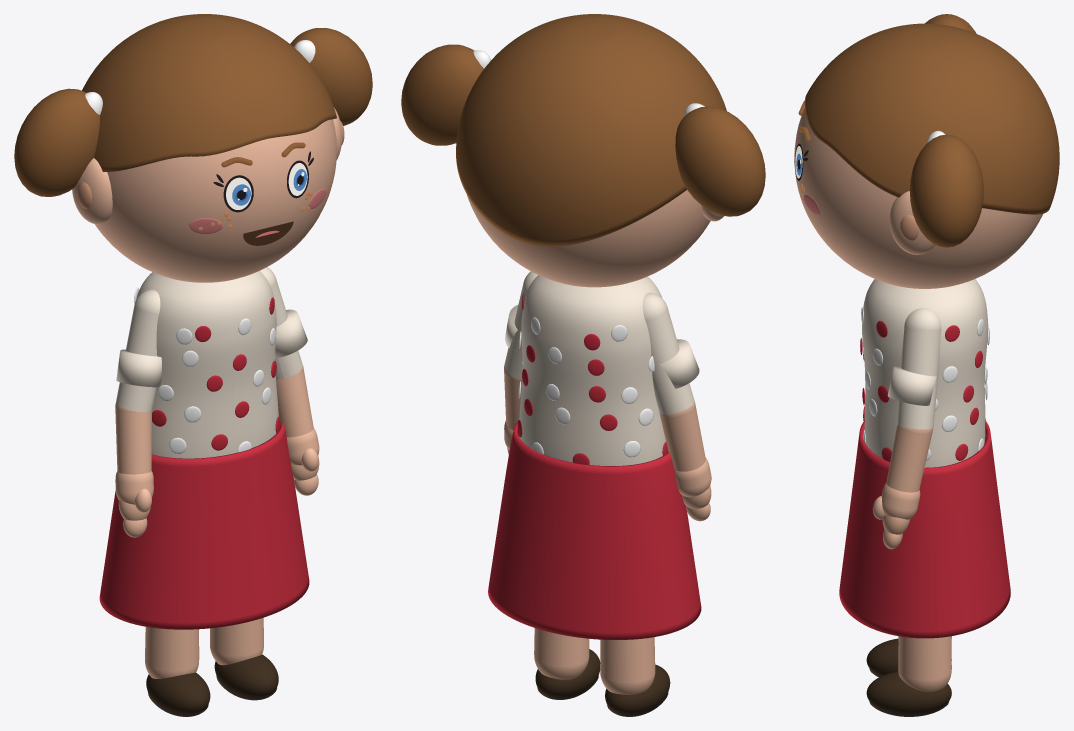
Rendered from oma_jong.glb.
3 views of the same model, side by side, from view 1: azimuth 30°, elevation 25°; view 2: azimuth 150°, elevation 25°; view 3: azimuth 270°, elevation 25° (orthographic). The views are drawn at different scales.
Visible parts, largest first — view 1: oma_jong_rok, oma_jong_haar, oma_jong_hoofd, oma_jong_romp, oma_jong_staartje_R, oma_jong_staartje_L, oma_jong, oma_jong_bovenarm_R, oma_jong_been_R, oma_jong_onderarm_R, oma_jong_schoen_R, oma_jong_schoen_L (+9 smaller); view 2: oma_jong_haar, oma_jong_rok, oma_jong_romp, oma_jong_hoofd, oma_jong_staartje_R, oma_jong_staartje_L, oma_jong, oma_jong_bovenarm_R, oma_jong_been_R, oma_jong_been_L, oma_jong_onderarm_R, oma_jong_schoen_R (+5 smaller); view 3: oma_jong_haar, oma_jong_rok, oma_jong_hoofd, oma_jong_romp, oma_jong_staartje_L, oma_jong_bovenarm_L, oma_jong_been_L, oma_jong, oma_jong_schoen_L, oma_jong_onderarm_L, oma_jong_mouwzoom_L, oma_jong_oor_L (+3 smaller).
Part boxes in pixels (x1,y1,x2,y2): oma_jong_rok: (99,422,309,629); oma_jong_haar: (82,14,336,171); oma_jong_hoofd: (95,119,336,282); oma_jong_romp: (136,271,278,458); oma_jong_staartje_R: (14,88,99,196); oma_jong_staartje_L: (290,28,372,125); oma_jong: (134,287,280,453); oma_jong_bovenarm_R: (116,289,160,412); oma_jong_been_R: (145,626,199,678); oma_jong_onderarm_R: (115,406,151,474); oma_jong_schoen_R: (146,672,210,714); oma_jong_schoen_L: (214,654,278,697); oma_jong_haar: (456,14,726,246); oma_jong_rok: (488,421,701,639); oma_jong_romp: (519,275,665,465); oma_jong_hoofd: (467,190,710,287); oma_jong_staartje_R: (675,106,765,216); oma_jong_staartje_L: (401,44,483,145); oma_jong: (517,293,668,464); oma_jong_bovenarm_R: (642,292,694,417); oma_jong_been_R: (600,637,655,694); oma_jong_been_L: (534,628,589,679); oma_jong_onderarm_R: (659,404,705,471); oma_jong_schoen_R: (605,664,670,714); oma_jong_haar: (804,23,1059,214); oma_jong_rok: (839,421,1010,638); oma_jong_hoofd: (794,107,1042,288); oma_jong_romp: (862,279,988,467); oma_jong_staartje_L: (909,134,983,247); oma_jong_bovenarm_L: (897,308,941,434); oma_jong_been_L: (898,636,951,691); oma_jong: (860,307,989,461); oma_jong_schoen_L: (866,671,951,712); oma_jong_onderarm_L: (886,425,932,492); oma_jong_mouwzoom_L: (887,366,936,405); oma_jong_oor_L: (889,191,935,254).
Size of the model in its own units: 0.8704 by 1.59 by 0.5785.
